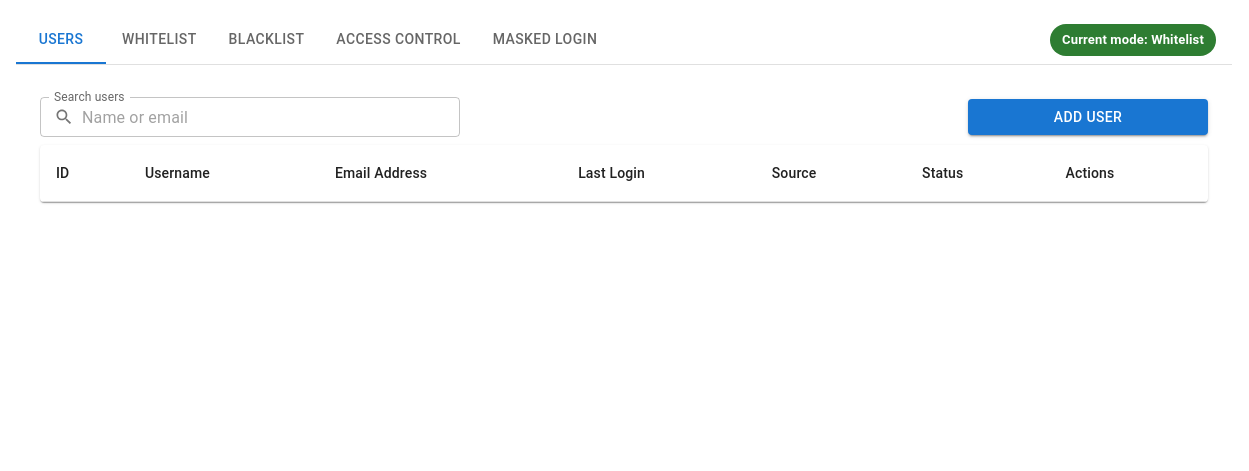
AdminPage › Rendering › renders whitelist on Whitelist tab
What coordinates should you click on to do the following:
click the tab "Whitelist"
I would click on:
 (159, 40)
Its box is x1=106 y1=16 x2=212 y2=64.
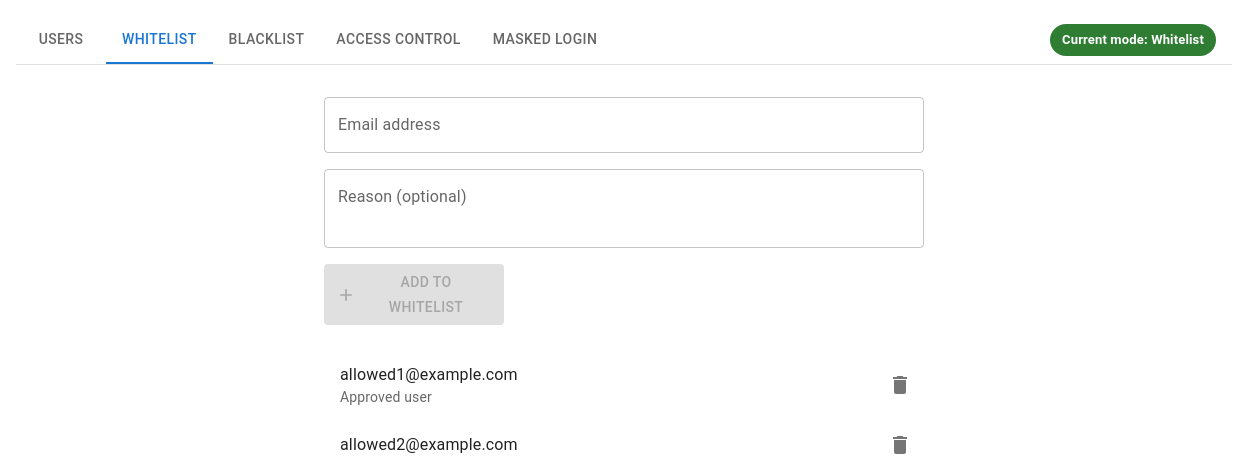
Check: the text "allowed1@example.com" is shown, box x1=340 y1=365 x2=518 y2=384
Check: the text "allowed2@example.com" is shown, box x1=340 y1=435 x2=518 y2=454
